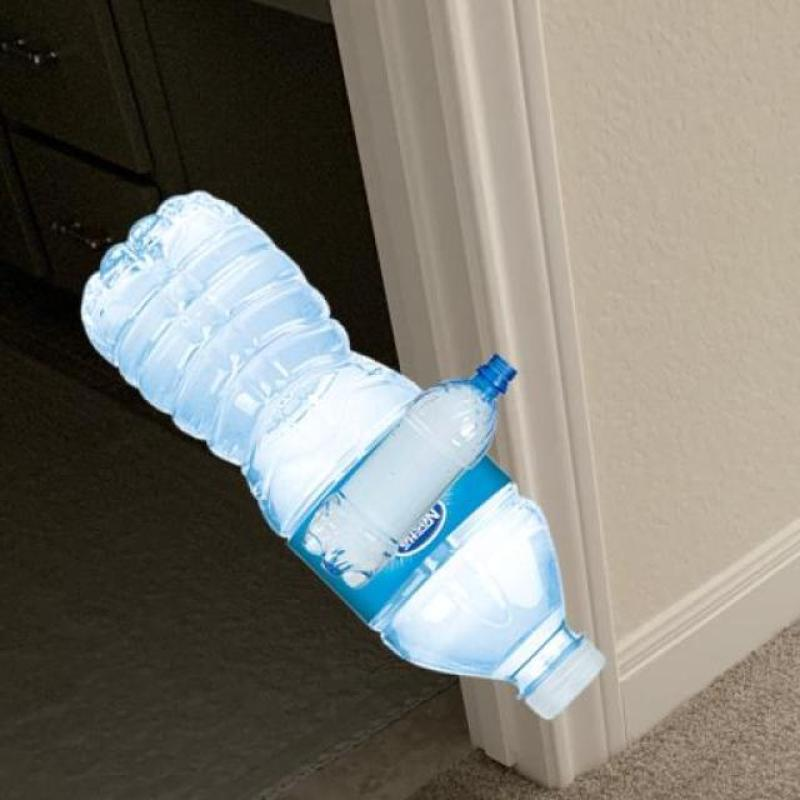botella: (82, 191, 606, 724), (303, 348, 519, 591)
